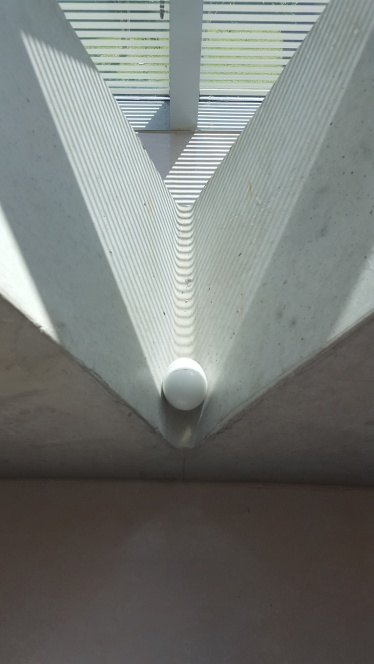egg: (163, 359, 209, 411)
